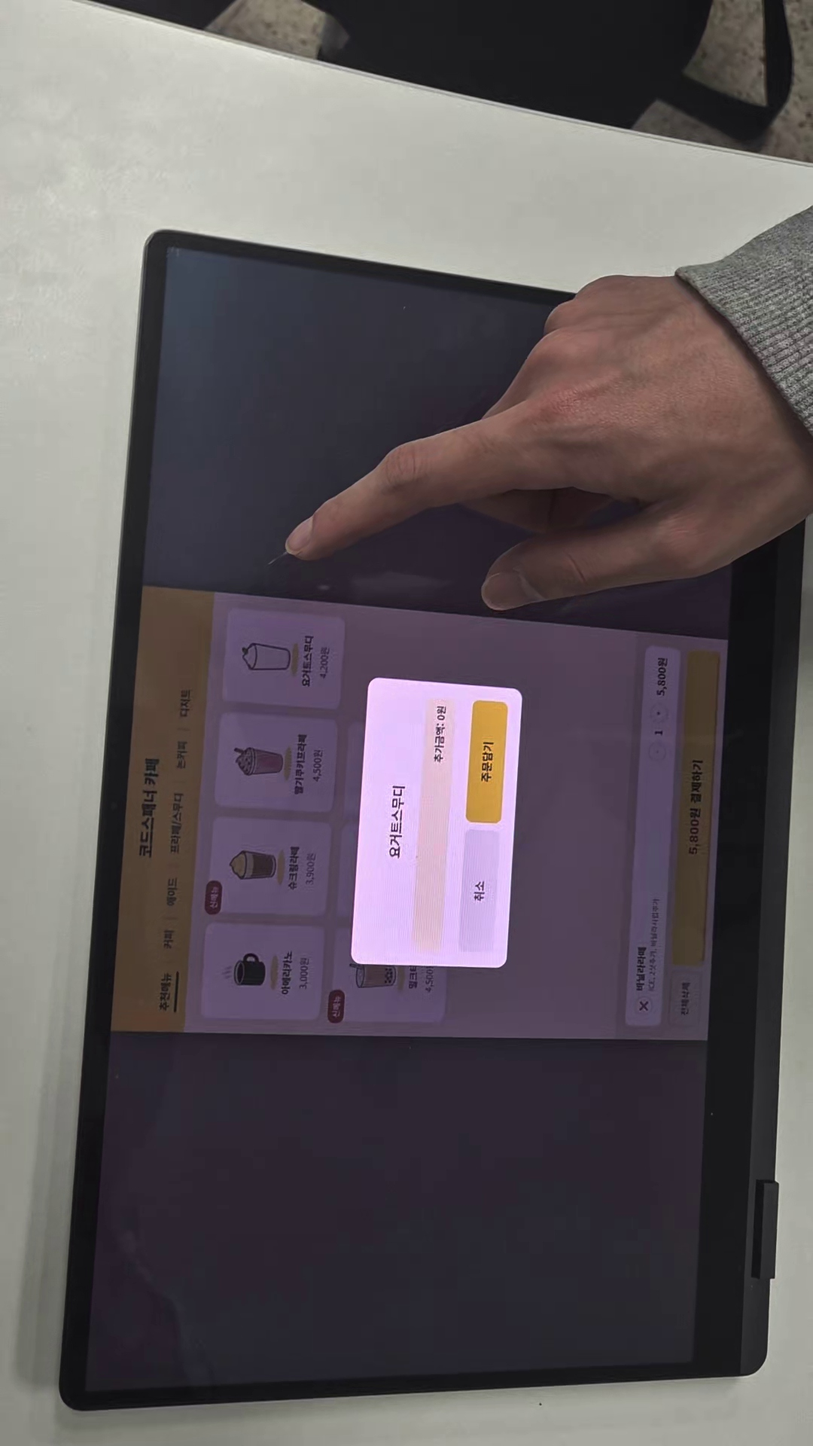action_button: (466, 698, 507, 822), (458, 829, 499, 953)
popup_modal: (352, 677, 523, 967)
